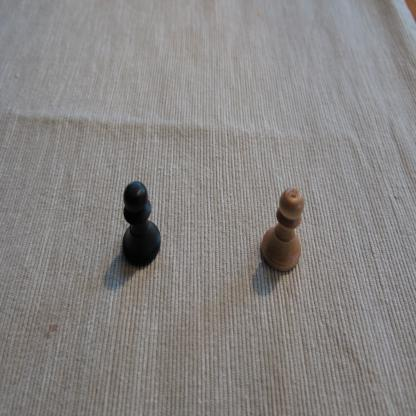black-pawn: (121, 180, 162, 270)
white-pawn: (261, 186, 304, 274)
